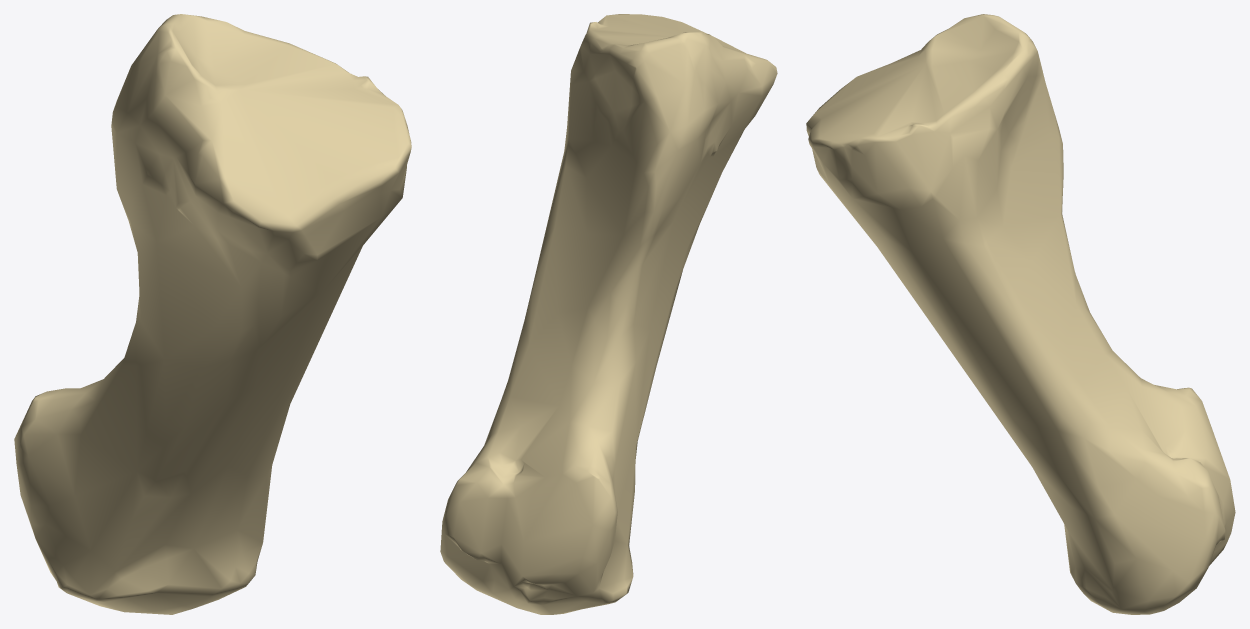
3 renders of one model, left to right at view 1: azimuth 30°, elevation 25°; view 2: azimuth 150°, elevation 25°; view 3: azimuth 270°, elevation 25°, orthographic. The views are drawn at different scales.
Parts seen in each view (by area): view 1: 右侧第一跖骨; view 2: 右侧第一跖骨; view 3: 右侧第一跖骨.
Part boxes in pixels (x1=…): 右侧第一跖骨: x1=14, y1=14, x2=411, y2=614; 右侧第一跖骨: x1=440, y1=14, x2=777, y2=614; 右侧第一跖骨: x1=806, y1=14, x2=1235, y2=614.
Size of the model in its own units: 0.0322 by 0.0937 by 0.0661.
